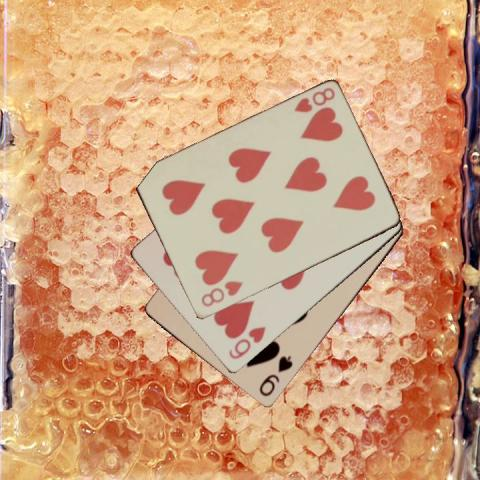6h: (226, 324, 268, 361)
8h: (198, 278, 244, 309), (290, 84, 336, 114)
9s: (256, 352, 295, 399)
